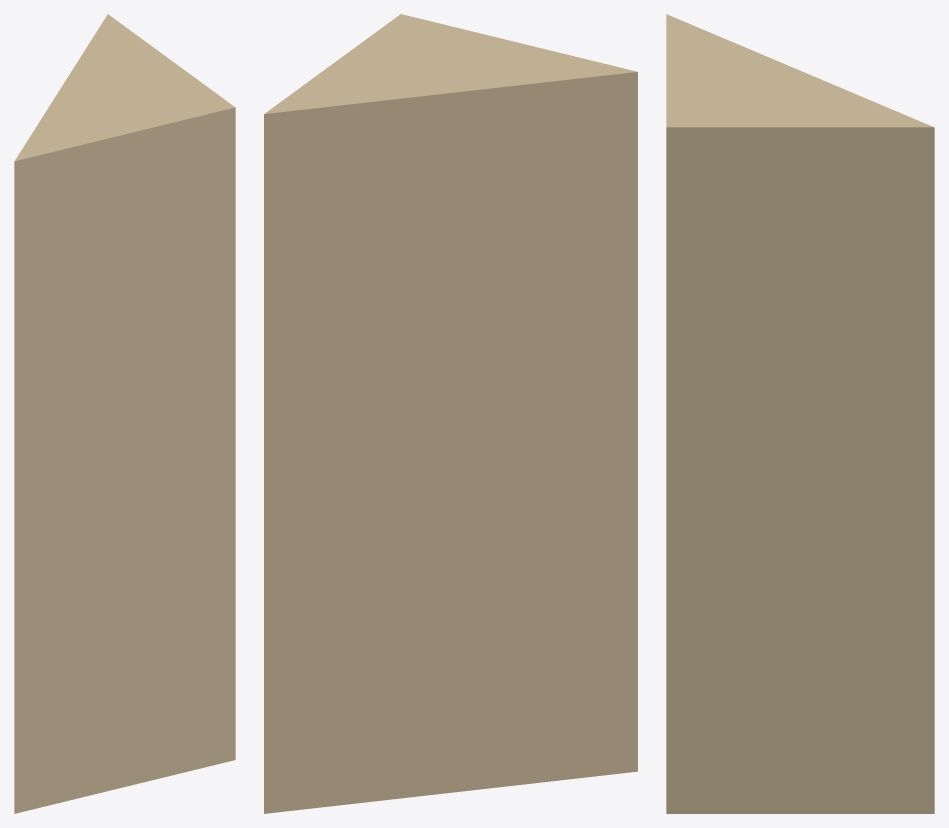
File: naturePack_128.gltf
3 renders of one model, left to right at view 1: azimuth 30°, elevation 25°; view 2: azimuth 150°, elevation 25°; view 3: azimuth 270°, elevation 25°, orthographic. The views are drawn at different scales.
Parts seen in each view (by area): view 1: Mesh1 Brown_Cliff_Corner Model; view 2: Mesh1 Brown_Cliff_Corner Model; view 3: Mesh1 Brown_Cliff_Corner Model.
Part boxes in pixels (x1,y1,x2,y2): Mesh1 Brown_Cliff_Corner Model: (14,14,235,813); Mesh1 Brown_Cliff_Corner Model: (264,14,637,813); Mesh1 Brown_Cliff_Corner Model: (666,14,934,813).
Size of the model in its own units: 0.78 by 2.2 by 0.78.
